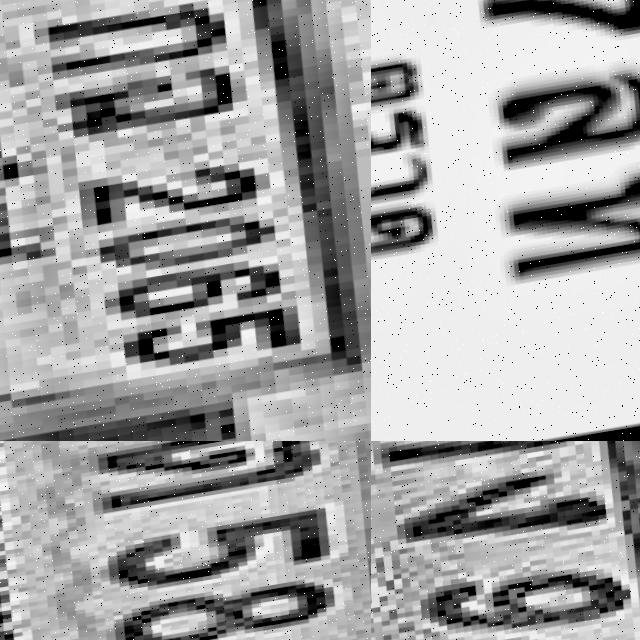license-plate: (0, 0, 371, 441), (371, 0, 640, 441), (0, 441, 371, 640), (371, 441, 640, 640)
